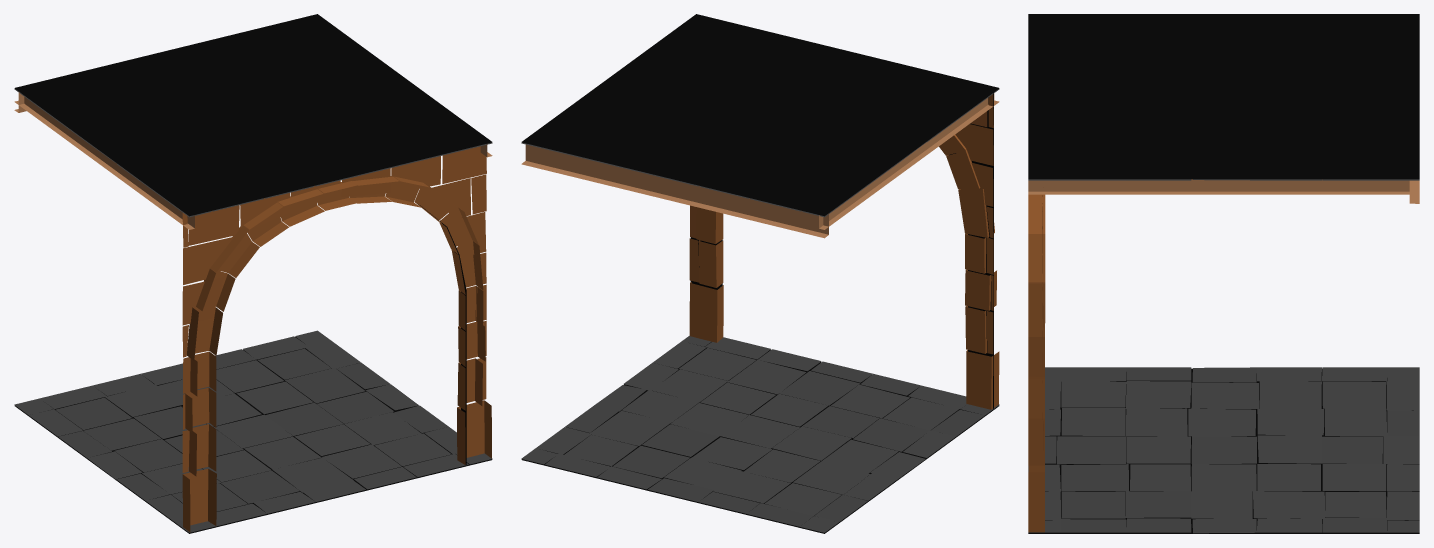
File: wall_8_door.glb
3 renders of one model, left to right at view 1: azimuth 30°, elevation 25°; view 2: azimuth 150°, elevation 25°; view 3: azimuth 270°, elevation 25°, orthographic. The views are drawn at different scales.
Visible parts, largest first — view 1: wall_8_door; view 2: wall_8_door; view 3: wall_8_door.
Boxes of the visible parts, x1=… form: wall_8_door: x1=14, y1=14, x2=492, y2=533; wall_8_door: x1=521, y1=14, x2=999, y2=533; wall_8_door: x1=1028, y1=14, x2=1419, y2=533.
Bounding box in the file's own units: 3 × 3 × 3.
1 material, 1 textured.
